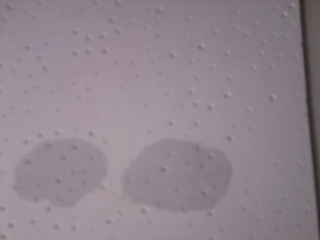Water_detected: (128, 151, 194, 197), (22, 144, 81, 189)
